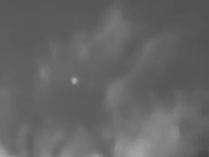Target: (72, 78, 78, 84)
